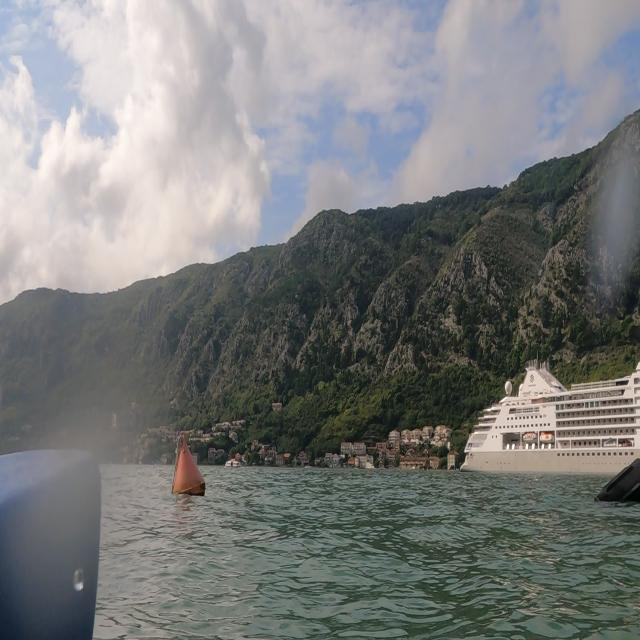boat: (454, 353, 640, 489)
buoy: (586, 443, 640, 512), (167, 426, 210, 506)
